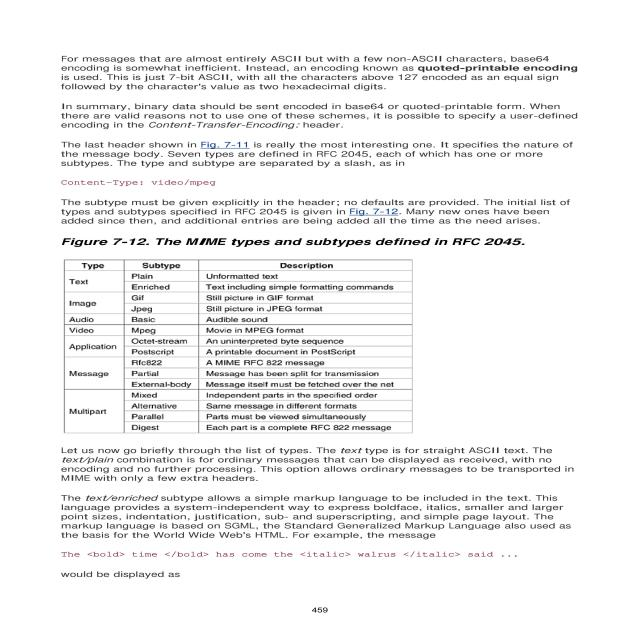diagram: (41, 233, 546, 440)
